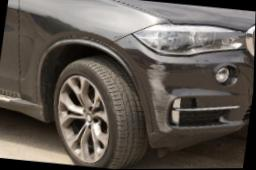Bumper: (110, 33, 219, 150)
